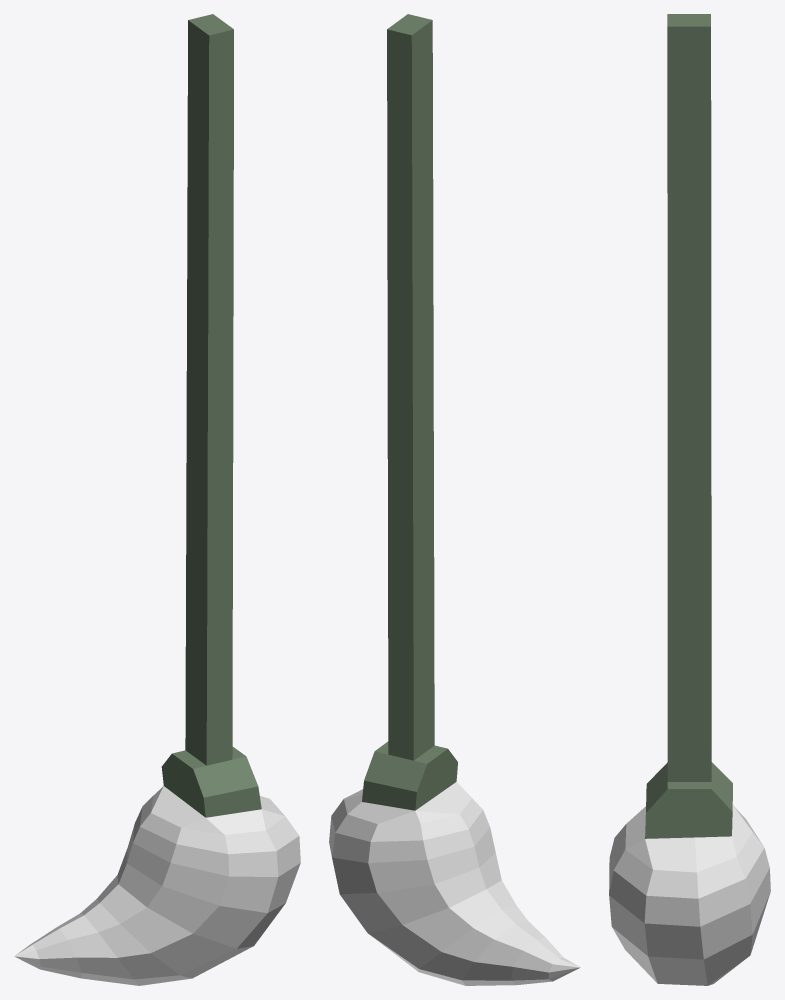
The model's file is S.Mop.fbx.
3 renders of one model, left to right at view 1: azimuth 30°, elevation 25°; view 2: azimuth 150°, elevation 25°; view 3: azimuth 270°, elevation 25°, orthographic. The views are drawn at different scales.
Parts seen in each view (by area): view 1: toon Mop WIP; view 2: toon Mop WIP; view 3: toon Mop WIP.
Part boxes in pixels (x1=…): toon Mop WIP: x1=14, y1=14, x2=300, y2=985; toon Mop WIP: x1=329, y1=14, x2=580, y2=985; toon Mop WIP: x1=609, y1=14, x2=770, y2=985.
Bounding box in the file's own units: 93.95 × 324 × 48.76.
